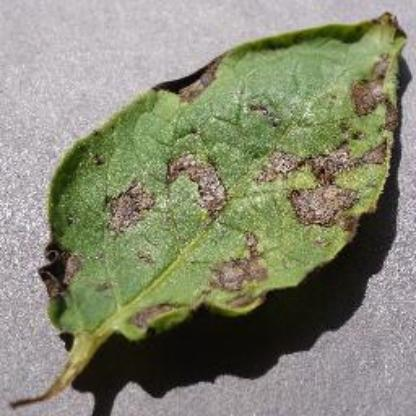Early-Blight: (29, 10, 410, 396)
